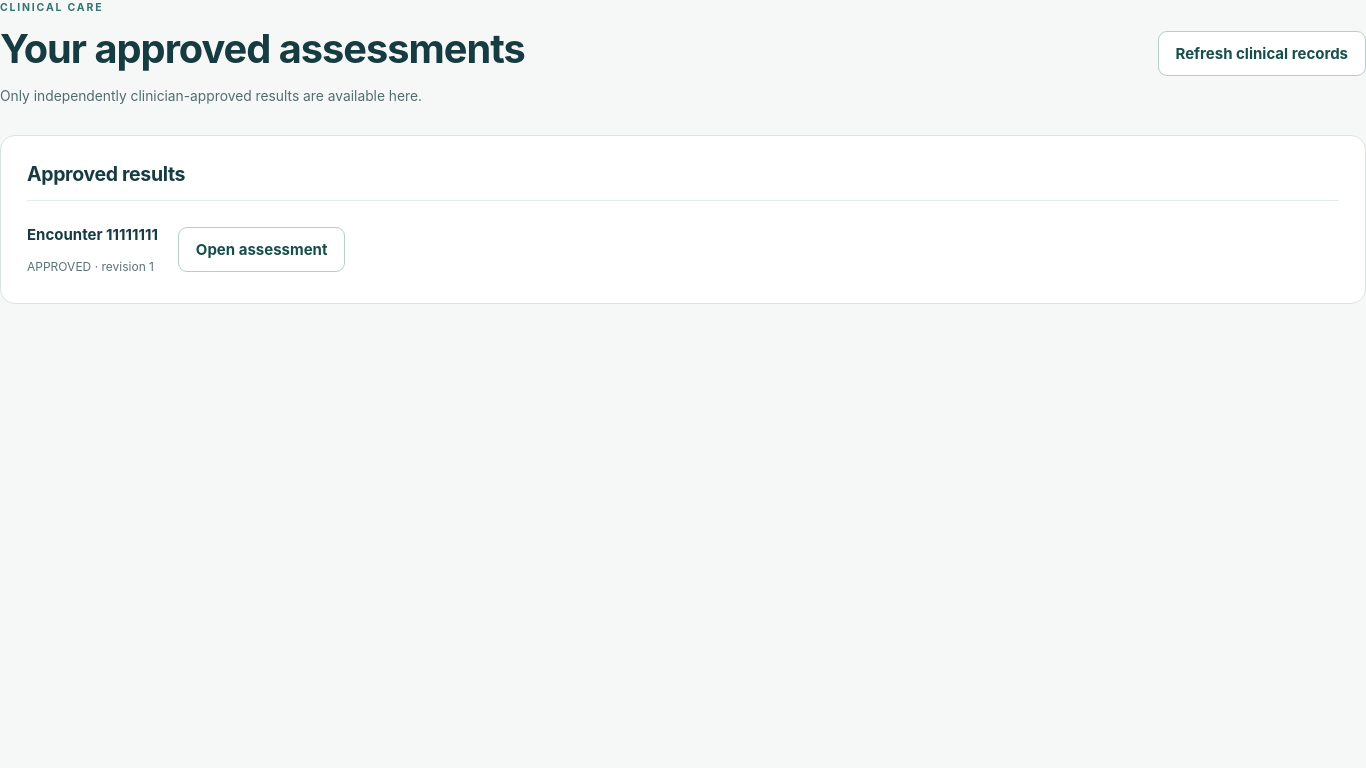
Test: patient renders approved findings and never requests predictions
What coordinates should you click on to do the following:
click the button "Open assessment"
I would click on:
 (262, 250)
Its box is [178, 227, 345, 272].
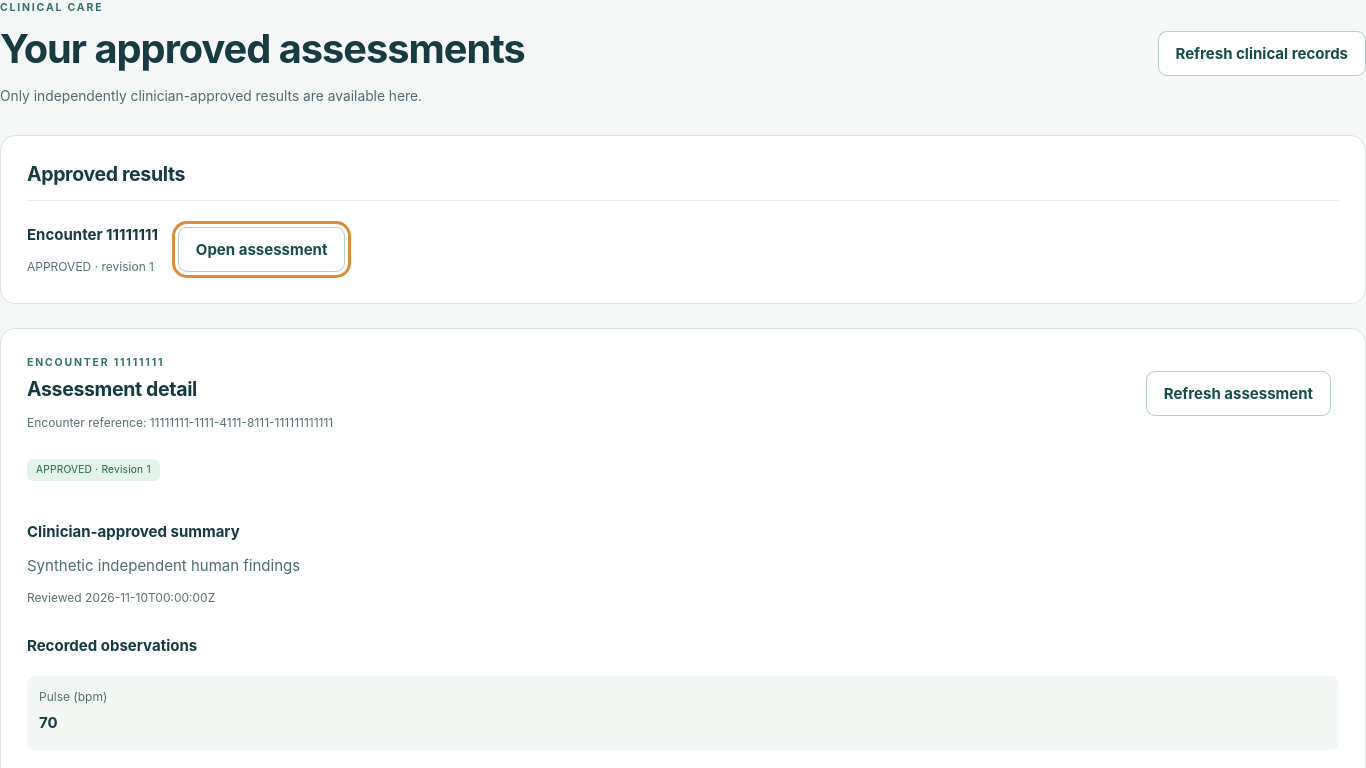
Check: the heading "Clinician-approved summary" is shown, box [27, 522, 240, 540]
